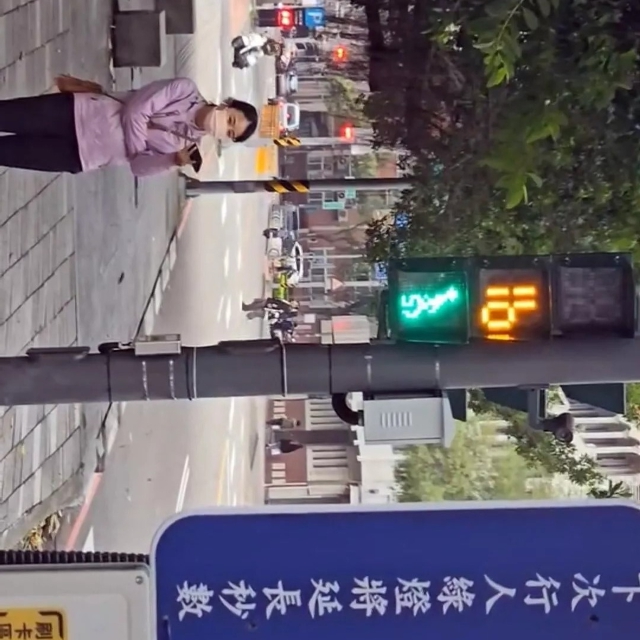green_light: (387, 260, 635, 343)
